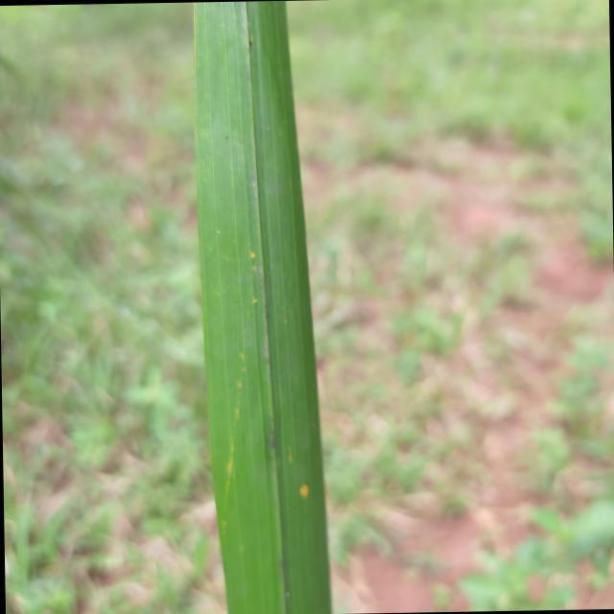Kalium: (187, 1, 332, 614)
